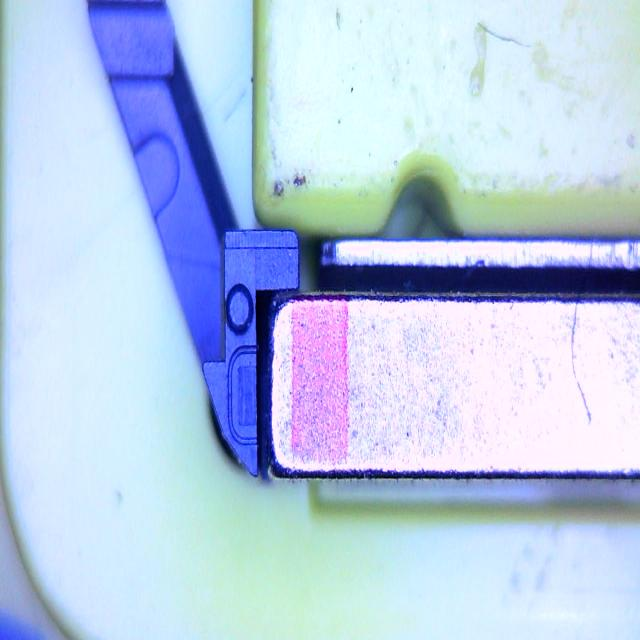noResin: (226, 343, 262, 446)
